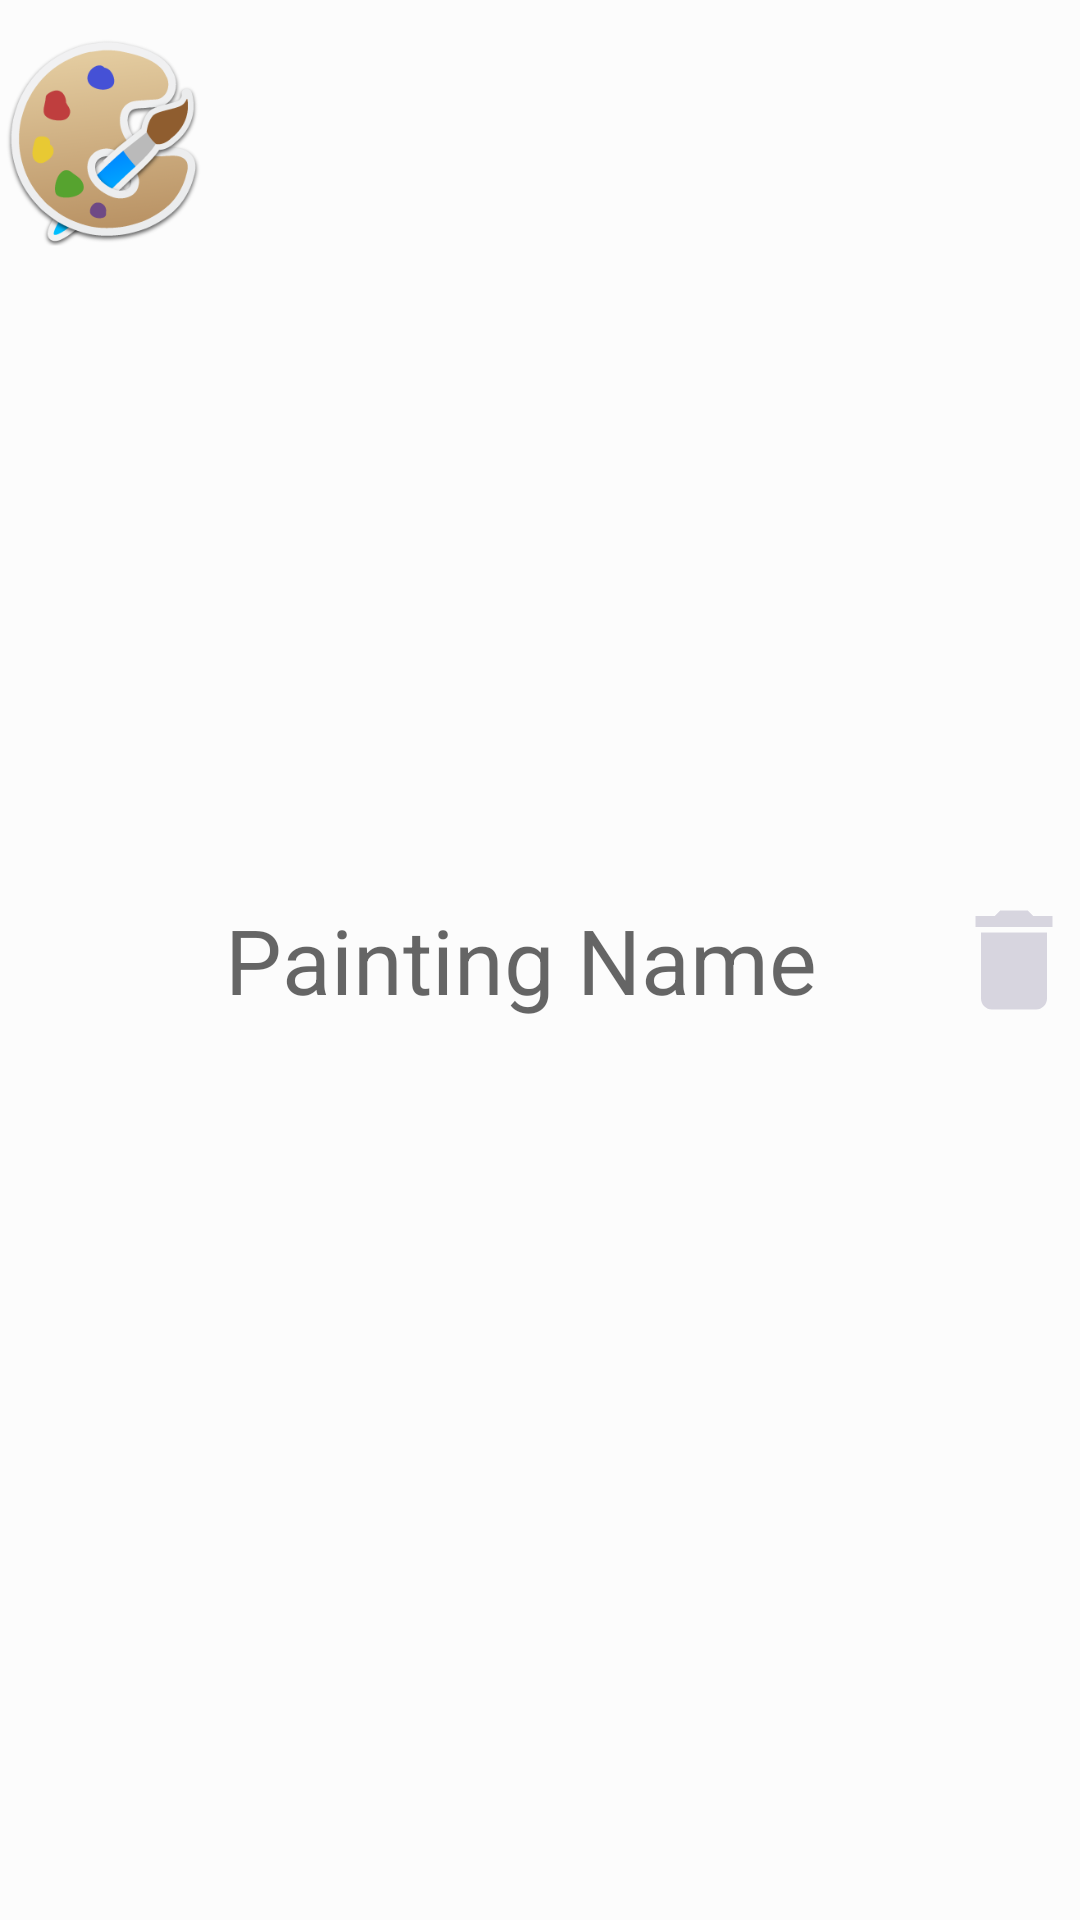

Where icons sit on this 1080px×1920px app screen, as [x1=x1, y1=y1, x2=x2, y2=y2]:
paint: [x1=9, y1=50, x2=198, y2=245]
